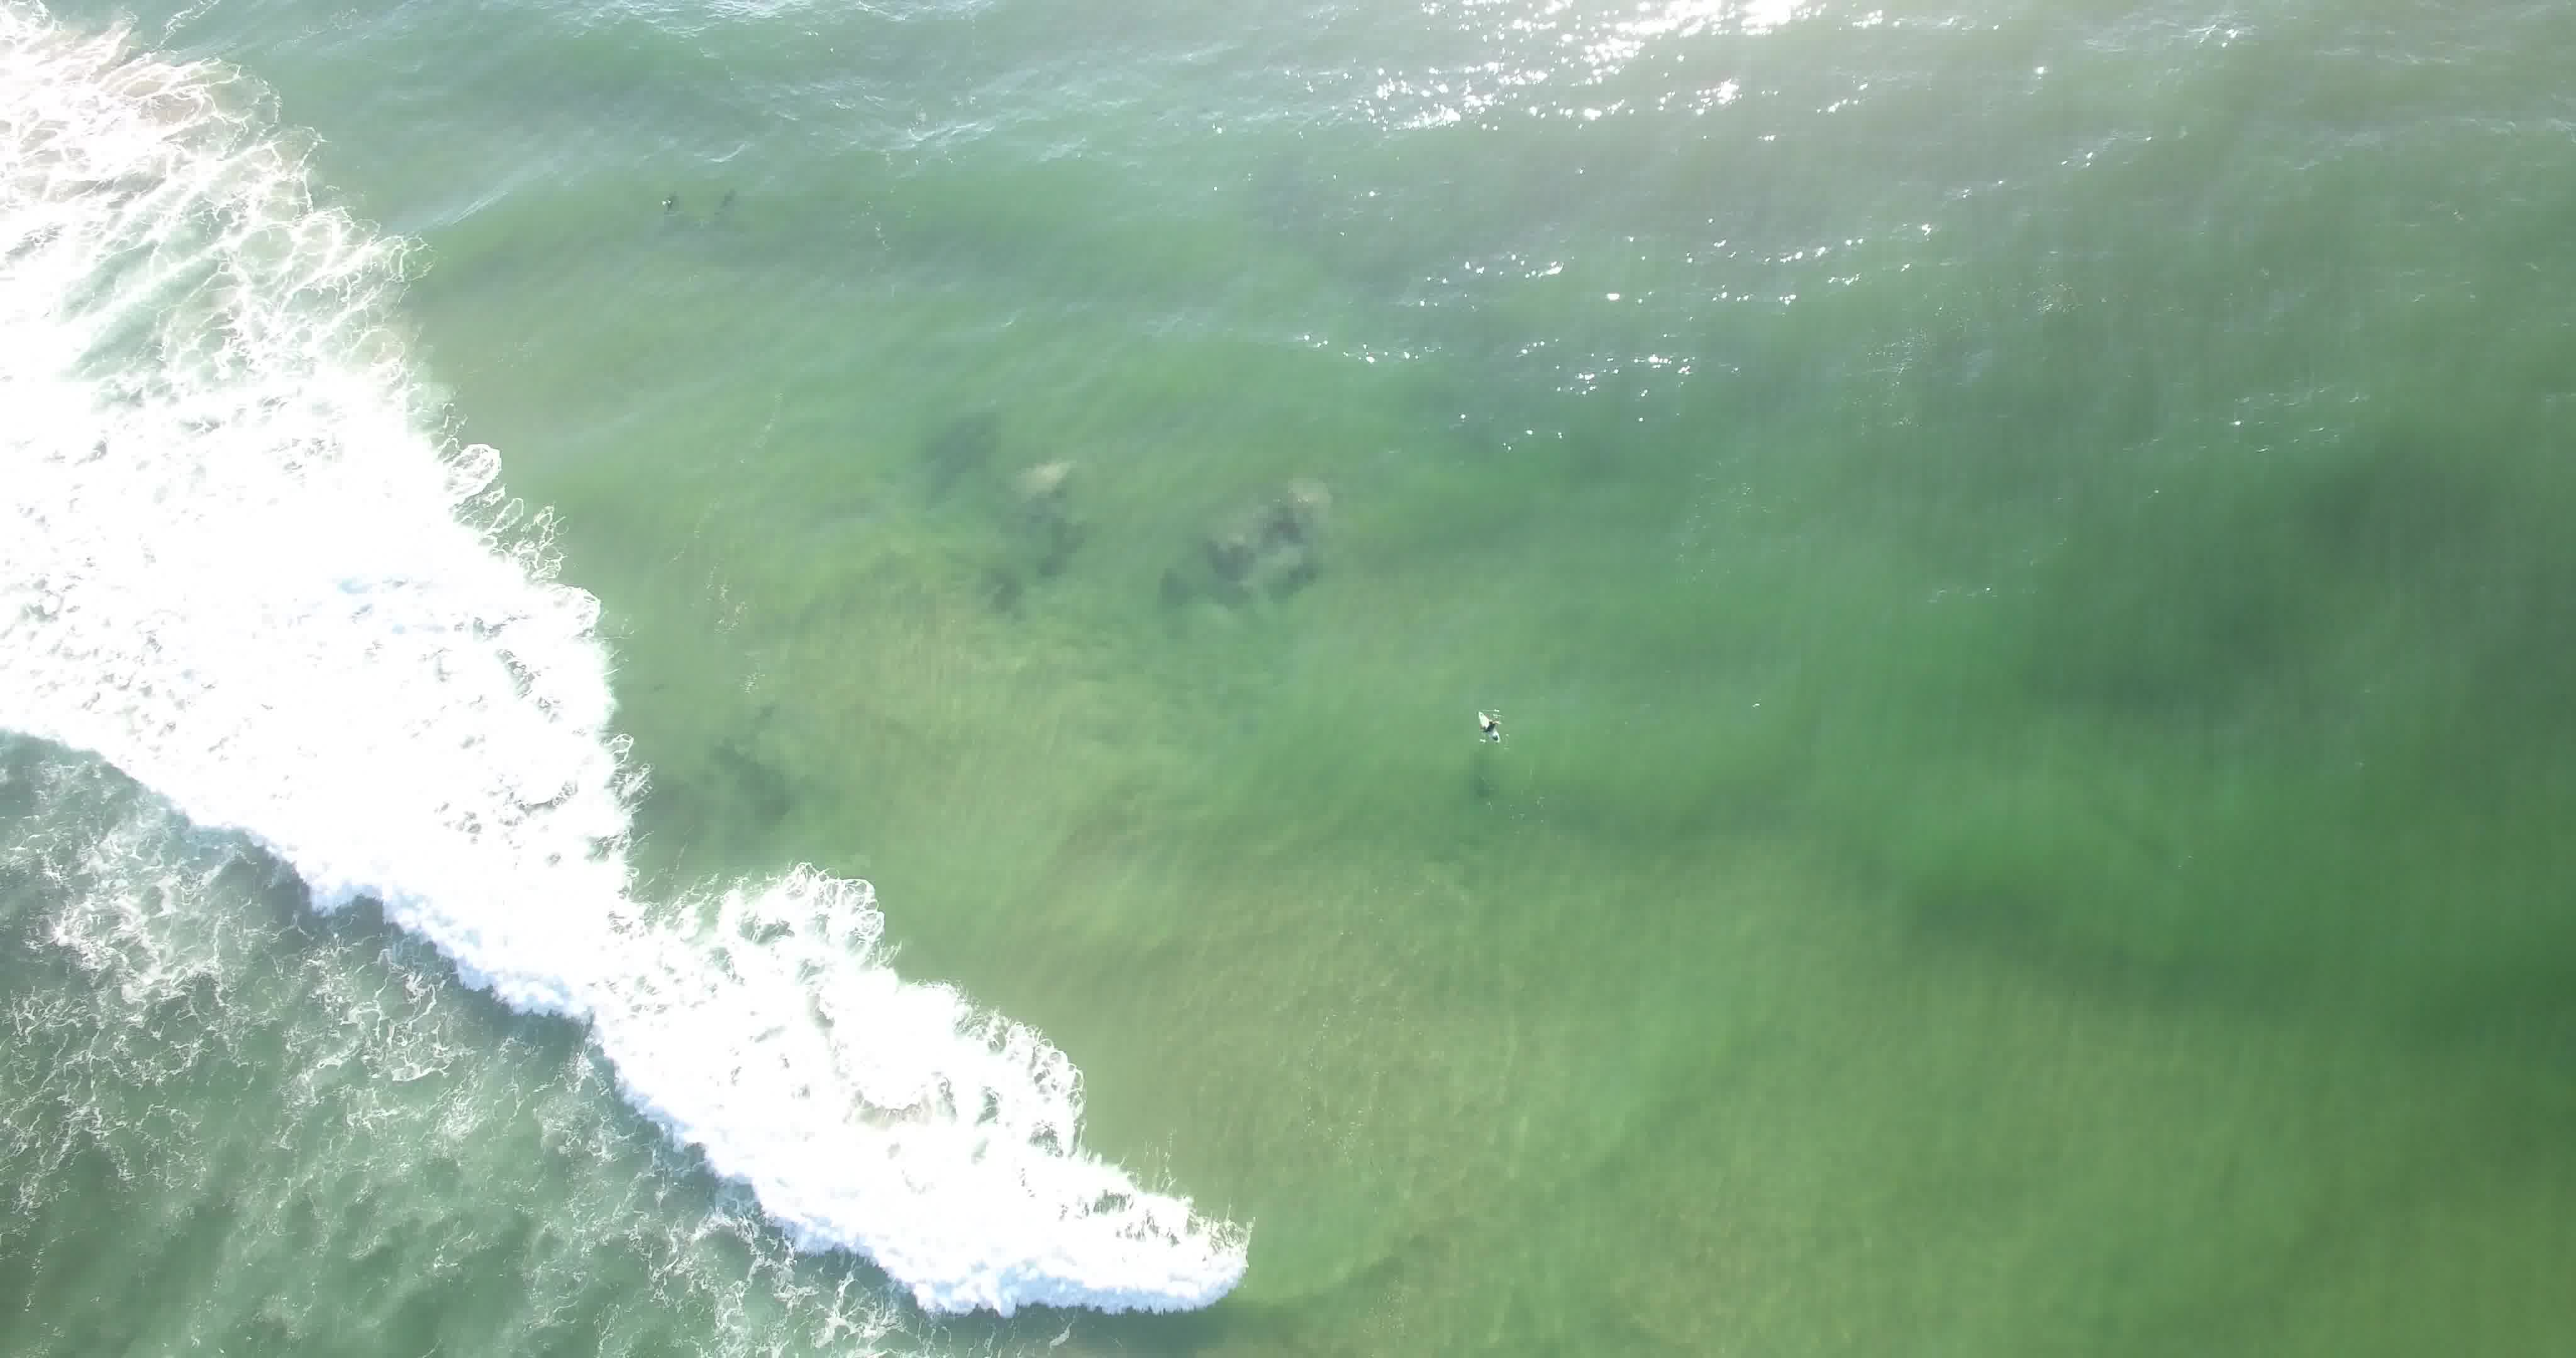dolphin: (692, 170, 751, 233), (642, 165, 692, 222)
